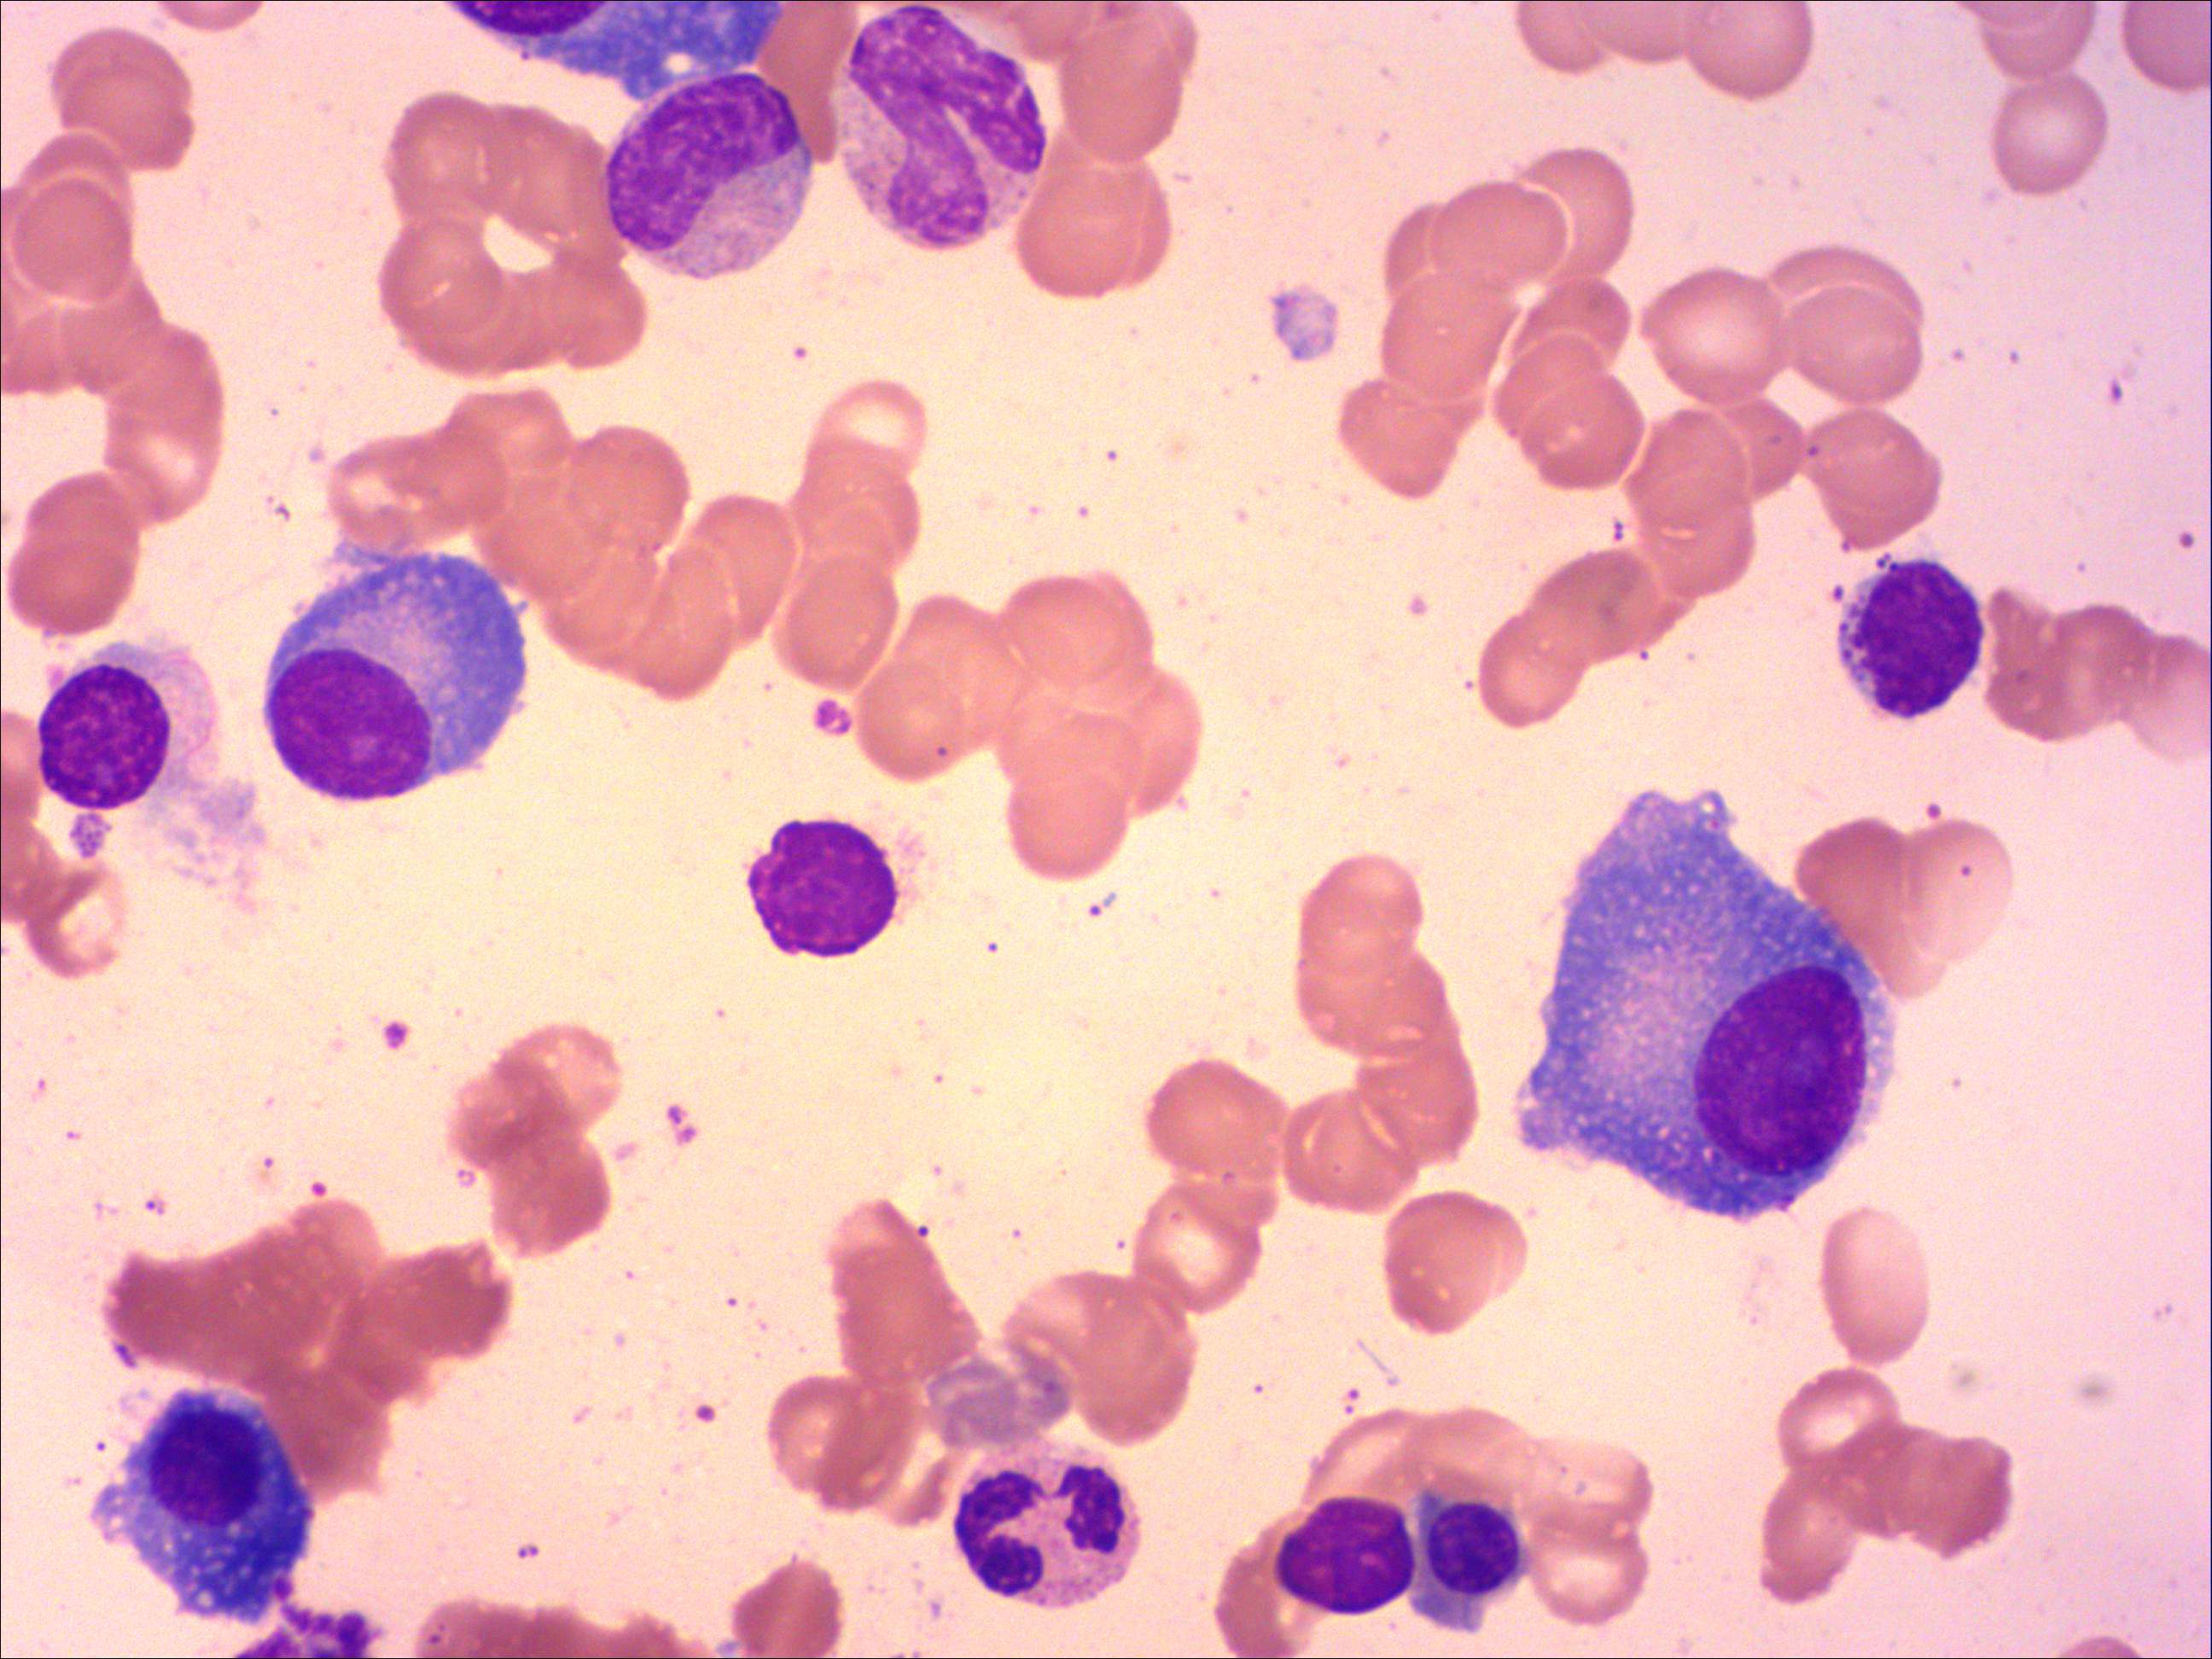32: (1832, 552, 1989, 727)
4: (596, 64, 817, 289)
5: (822, 0, 1055, 256)
51: (1510, 784, 1900, 1230), (258, 547, 531, 805)
x: (84, 1380, 320, 1633), (948, 1432, 1146, 1619), (33, 638, 223, 817), (738, 814, 907, 967), (1266, 1493, 1421, 1622), (1407, 1481, 1531, 1636)
